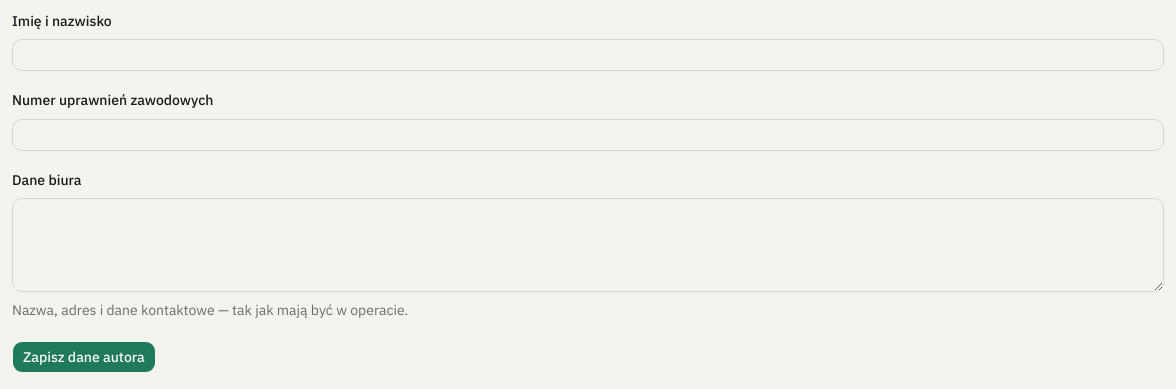
AuthorForm › wysyła trzy pola autora i pokazuje potwierdzenie zapisu
In the field labelled "Imię i nazwisko": point(588, 55) [12,39,1164,71], type "Jan Testowy"
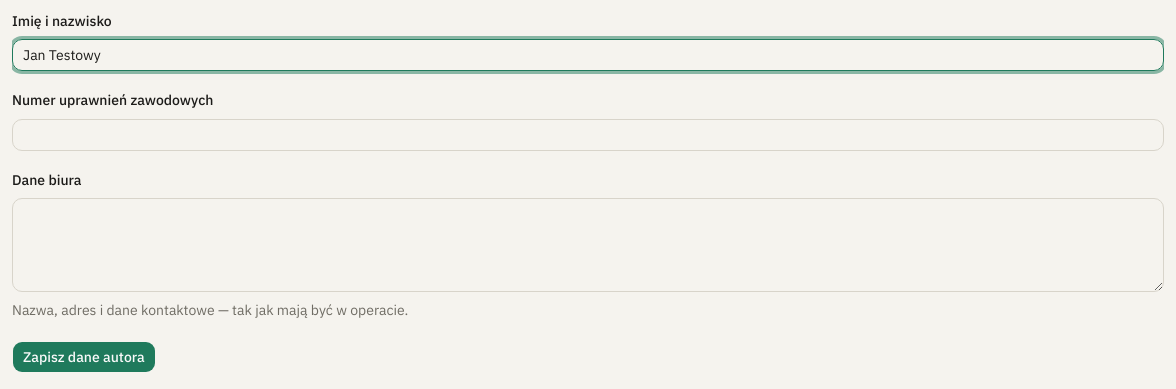
In the field labelled "Numer uprawnień zawodowych": point(588, 134) [12,118,1164,150], type "0000"
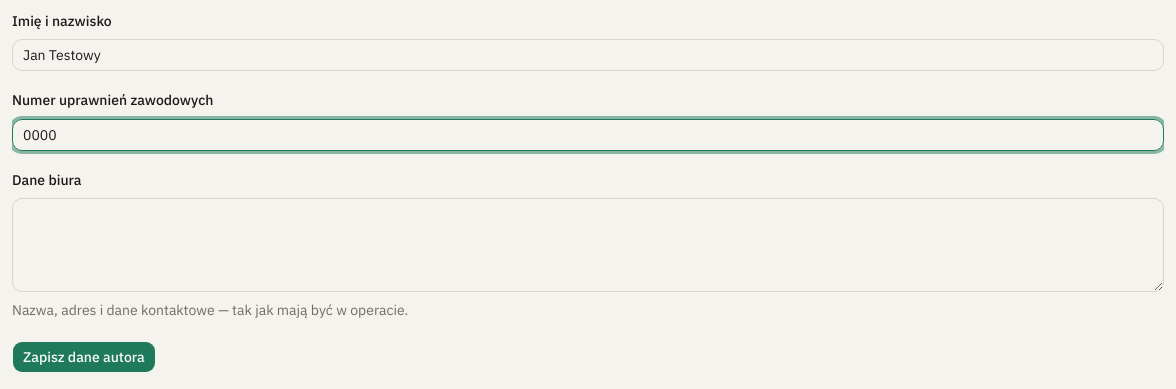
In the text box labelled "Dane biura": point(588, 245) [12,198,1164,292], type "Biuro Testowe"
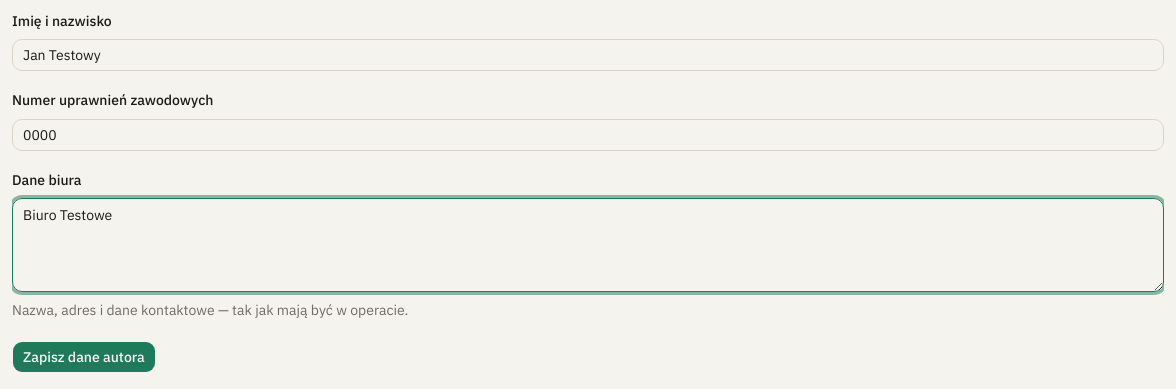
Click the button "Zapisz dane autora": point(84, 357) [12,341,156,373]
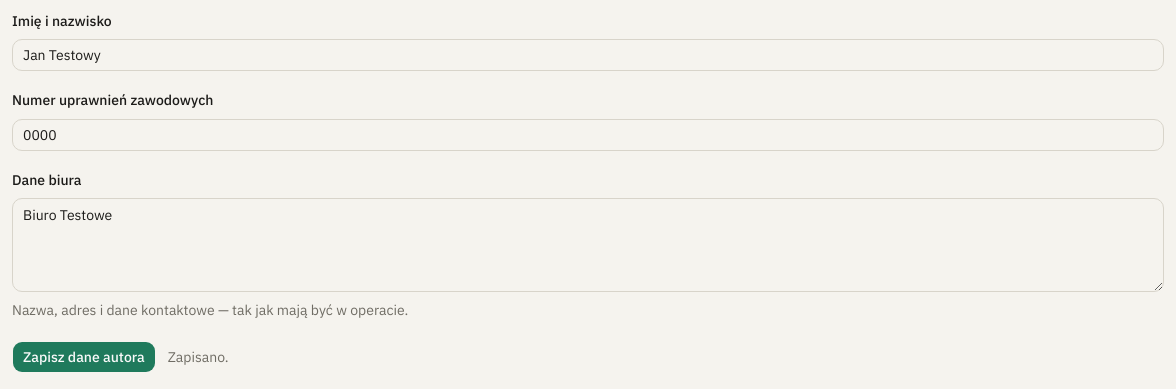
expect the text "Zapisano." is shown: met, box [168,347,228,367]
